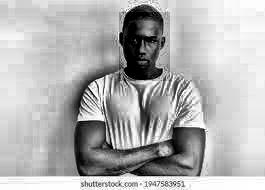angry: (119, 12, 170, 81)
